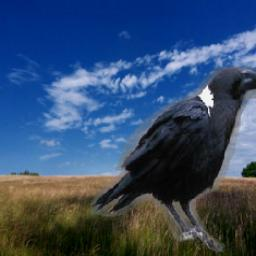Crow: (92, 68, 256, 254)
